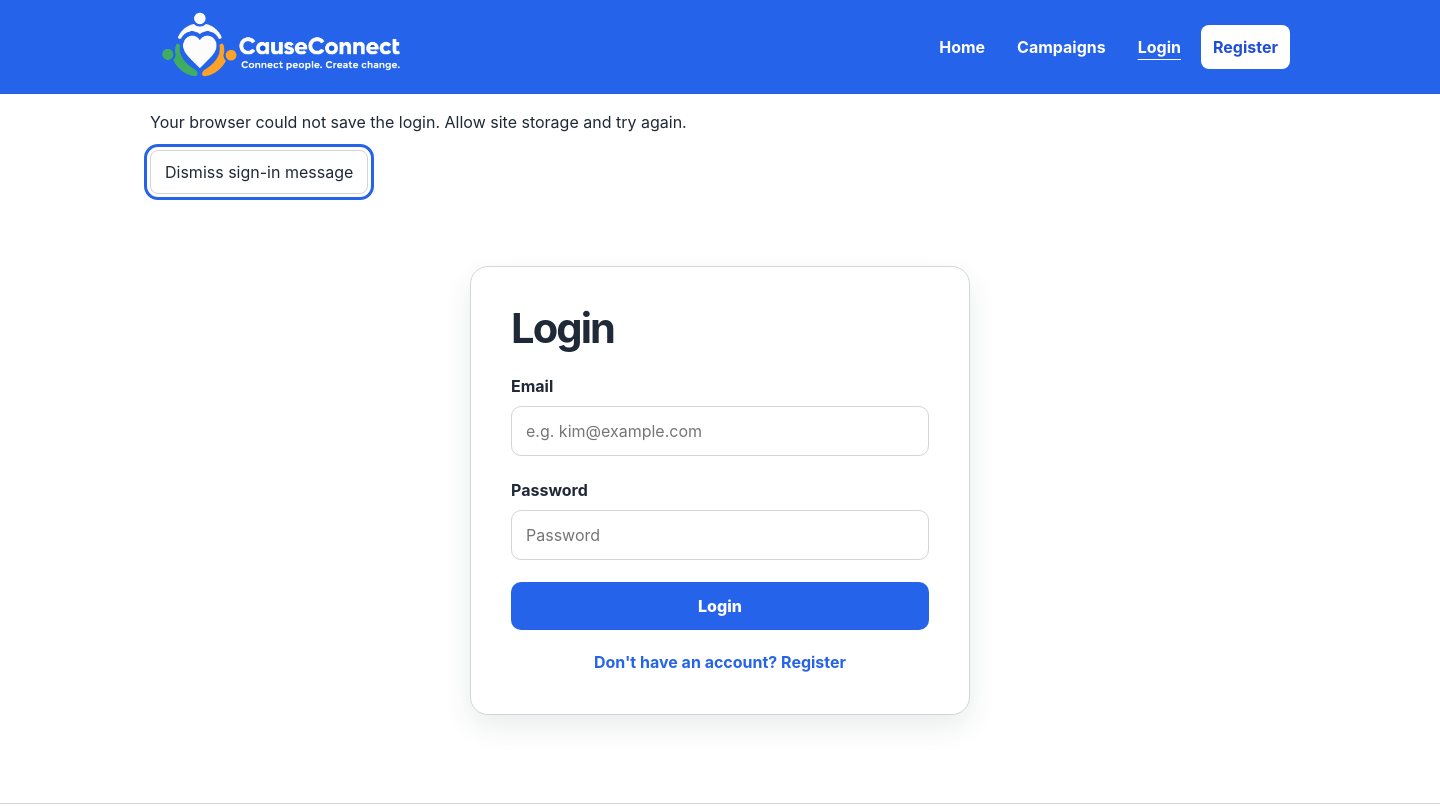
Test: navigation and session updates › restores useful focus after dismissing a sign-in notice on /login
Click the button "Dismiss sign-in message" at (259,172), box [150, 150, 368, 194]
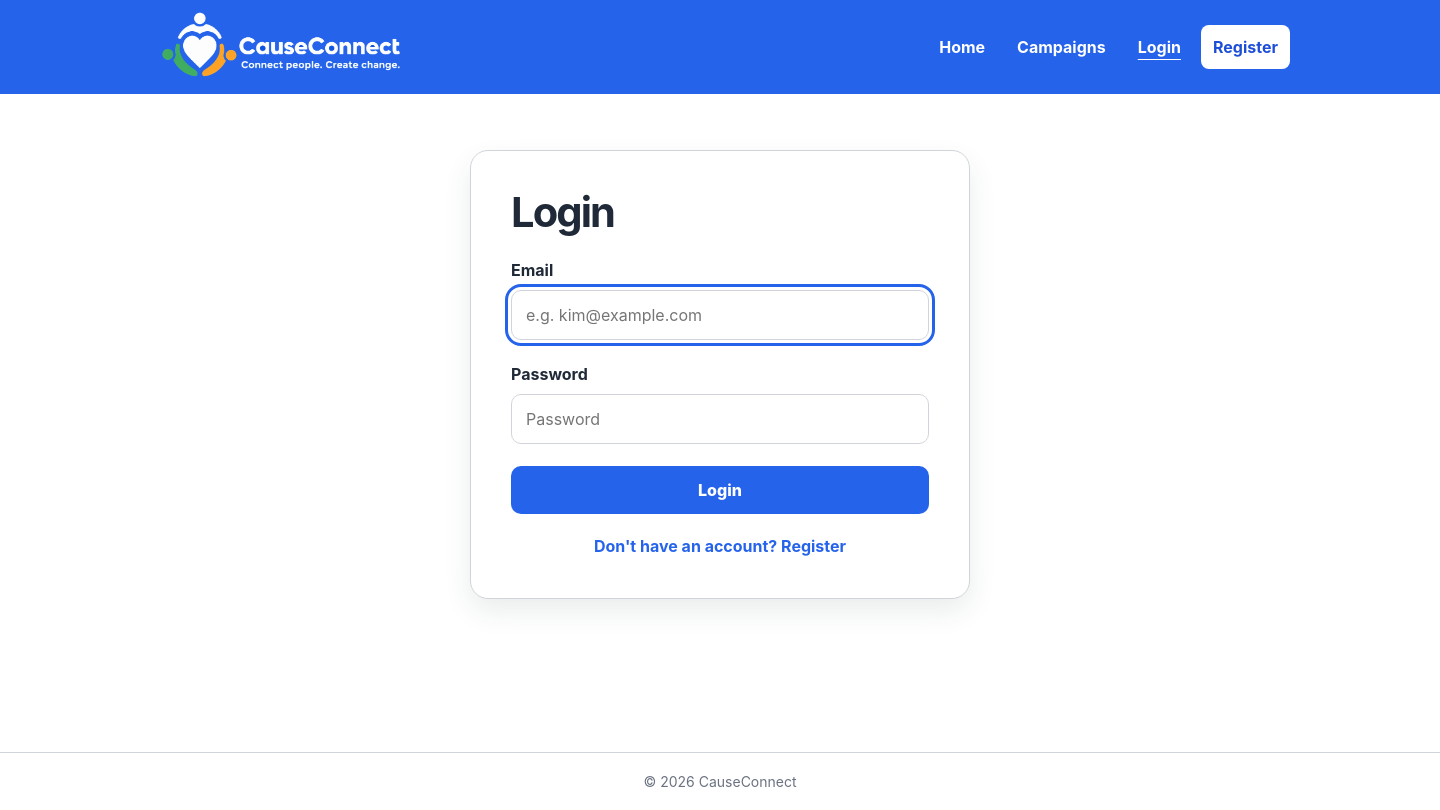
Expected: the message is gone
